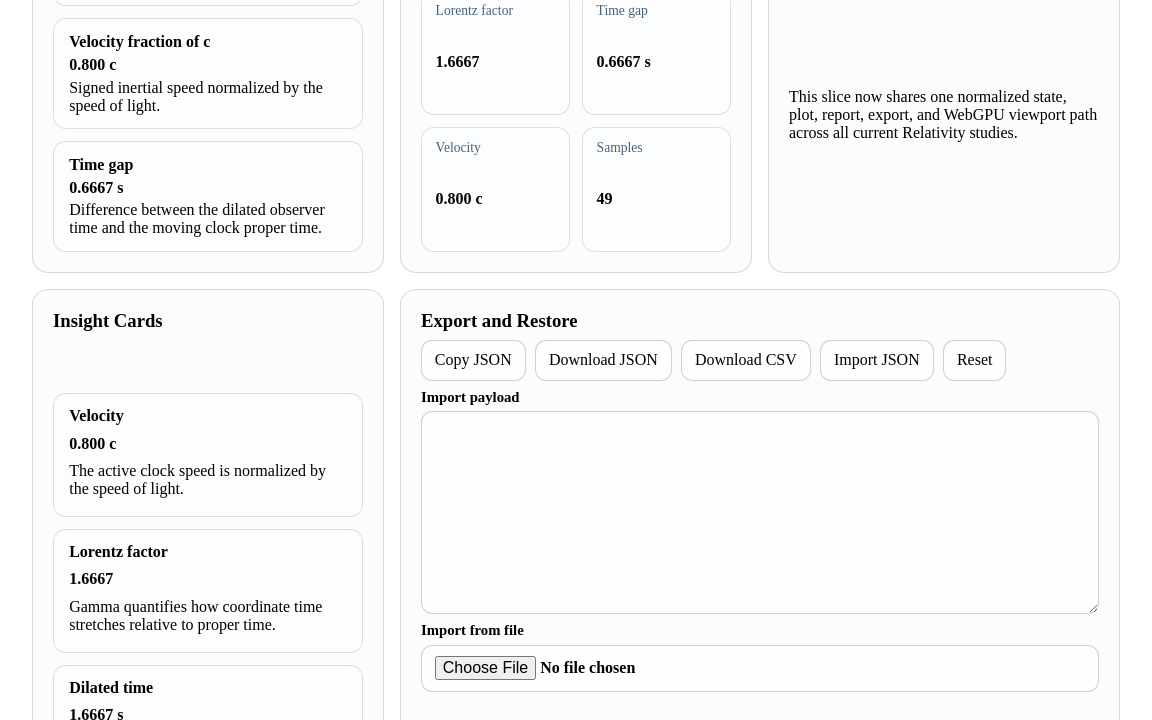
RelativityPageComponent › exports the active relativity scenario as a downloadable JSON file
This screenshot has width=1152, height=720.
(page scrolled)
Click the button "Download JSON": (603, 360) top-left (535, 340), bottom-right (672, 381)
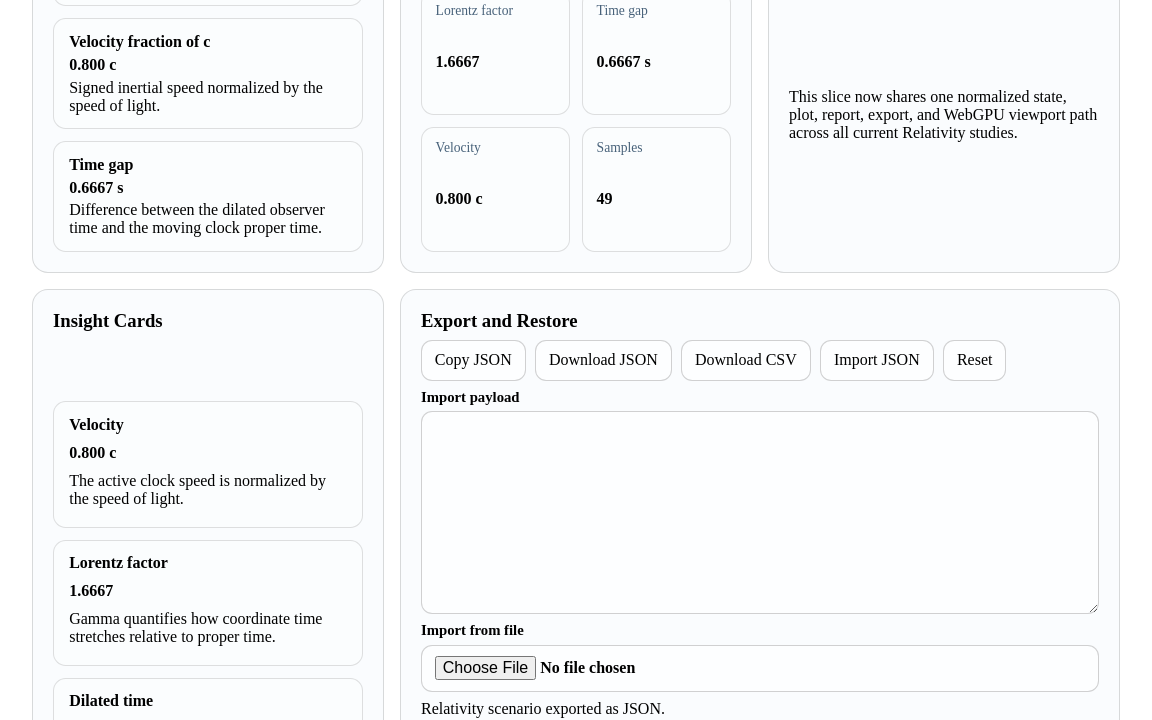
Check: the text "Relativity scenario exported as JSON." is shown, box top-left (421, 700), bottom-right (665, 717)
